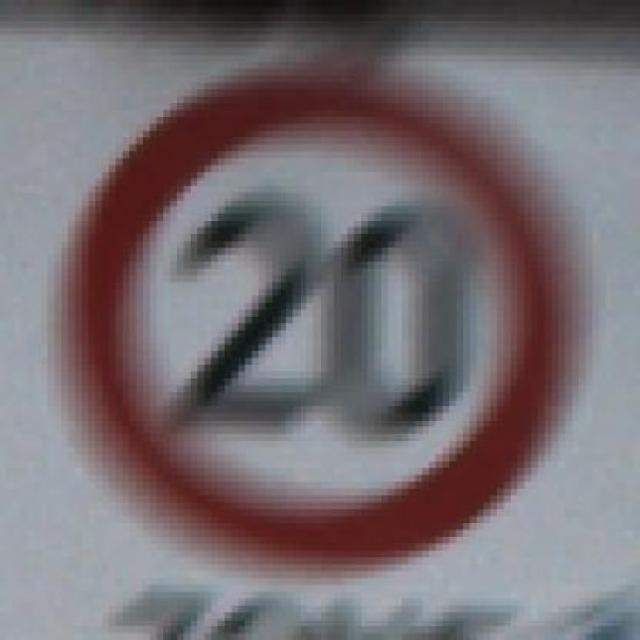Speed Limit 20 KMPh: (34, 68, 612, 578)
